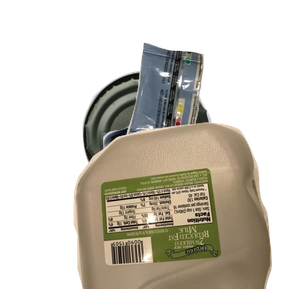glass: (37, 120, 231, 300)
metal: (80, 68, 284, 248)
plastic: (71, 120, 300, 300)
trash: (124, 40, 300, 188)
